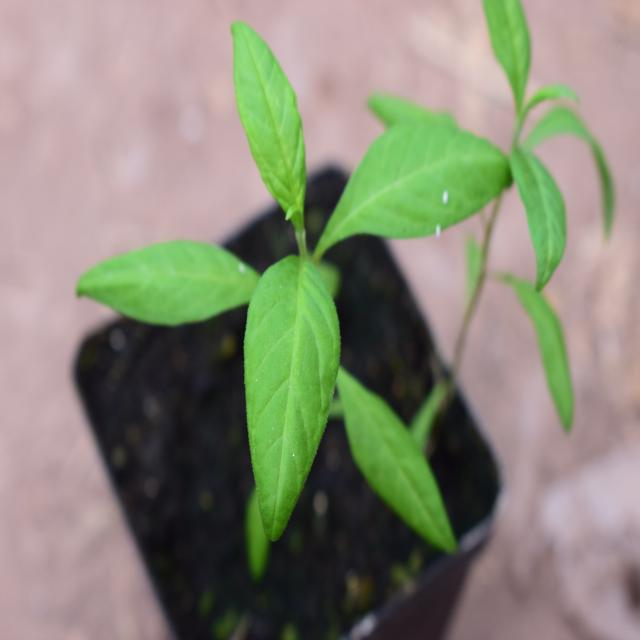white_smart_weed: (86, 14, 489, 577)
